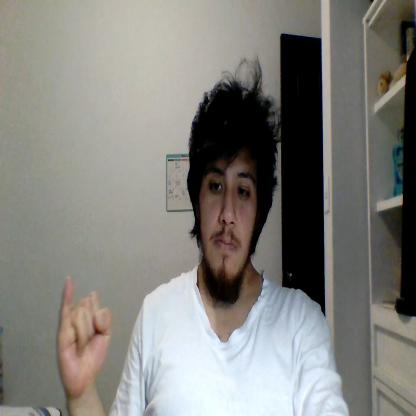I: (56, 275, 111, 393)
